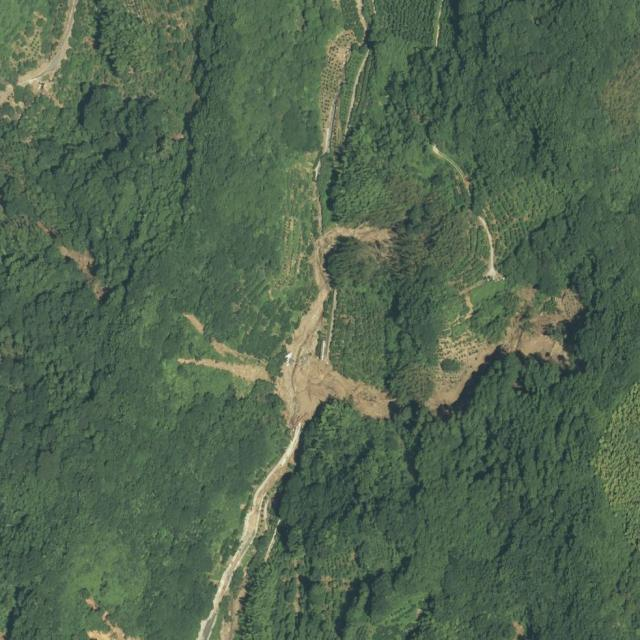landslide: (275, 224, 391, 433), (426, 287, 583, 411), (177, 359, 271, 382)
